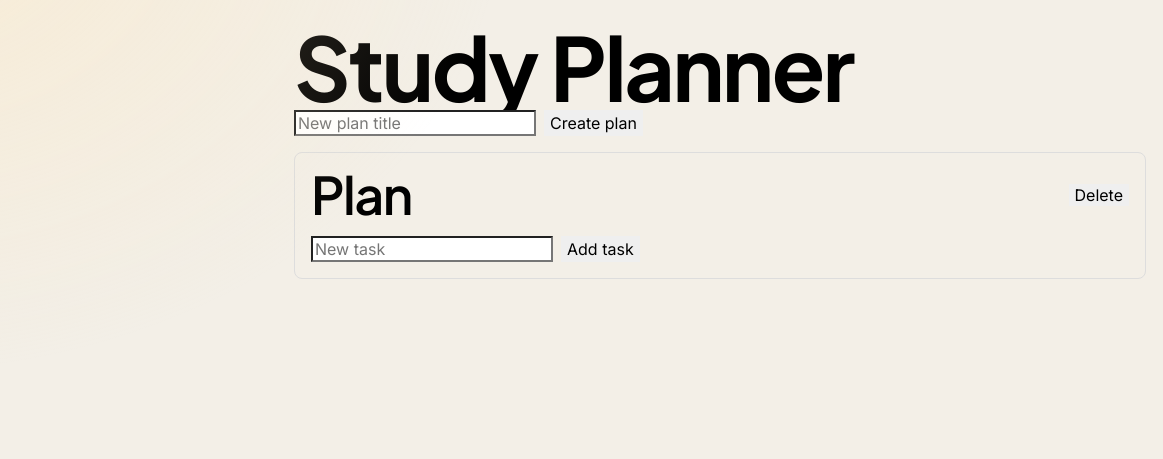
it: StudyPlannerPage › preserves mutation error when refresh succeeds
Check: the heading "Plan" is shown, box [311,169,412,220]
Type "Task A" into the field named "New task for Plan" at (432,249), box [311,236,553,262]
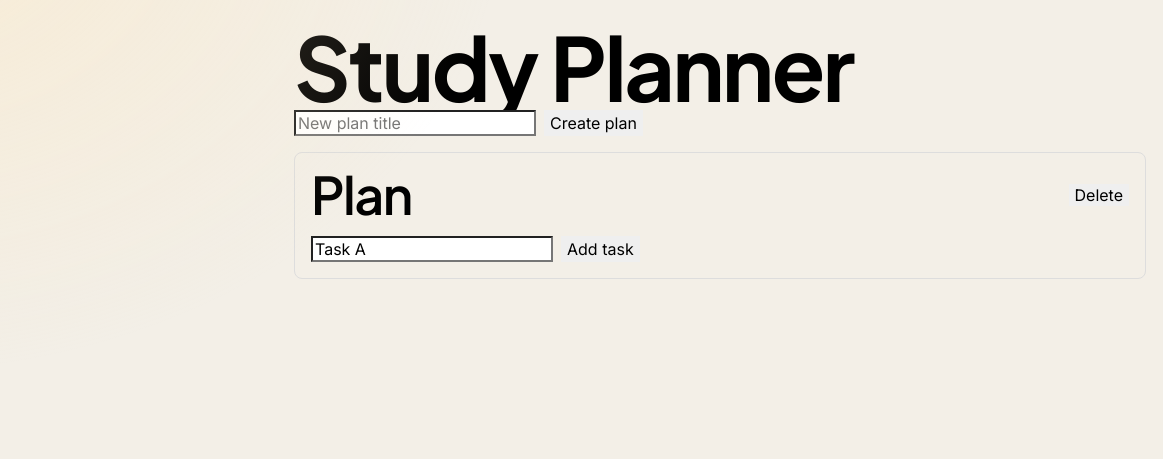
Click the button "Add task" at (600,249), box [561,236,640,262]
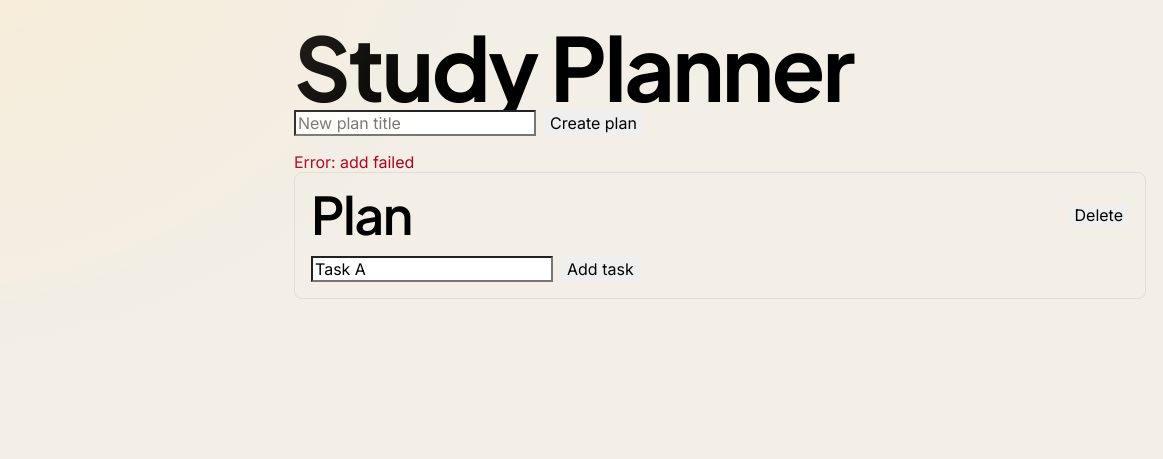
Check: the text "Error: add failed" is shown, box [294,152,414,172]
Type "New Plan" into the field labelled "New plan title" at (415,123), box [294,110,536,136]
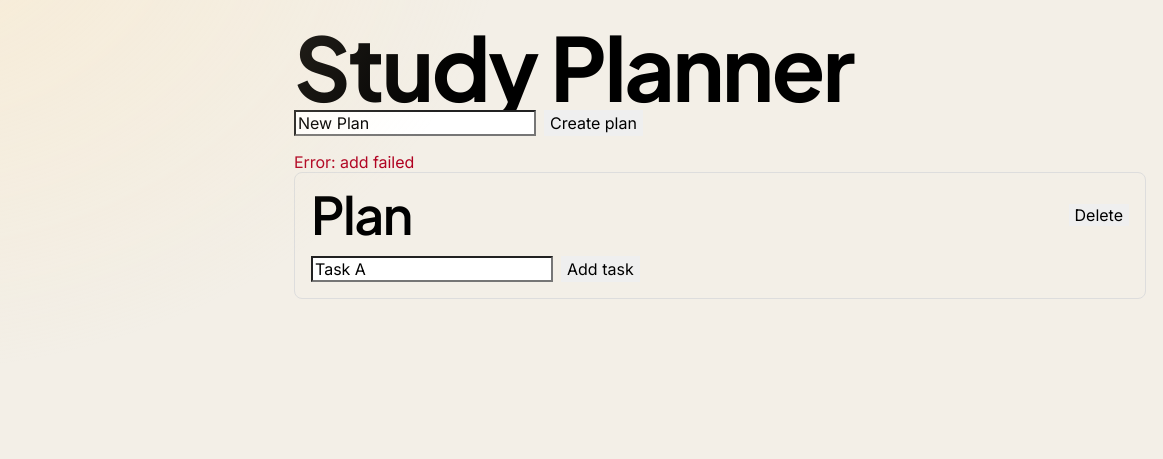
Click the button "Create plan" at (593,123), box [544,110,643,136]
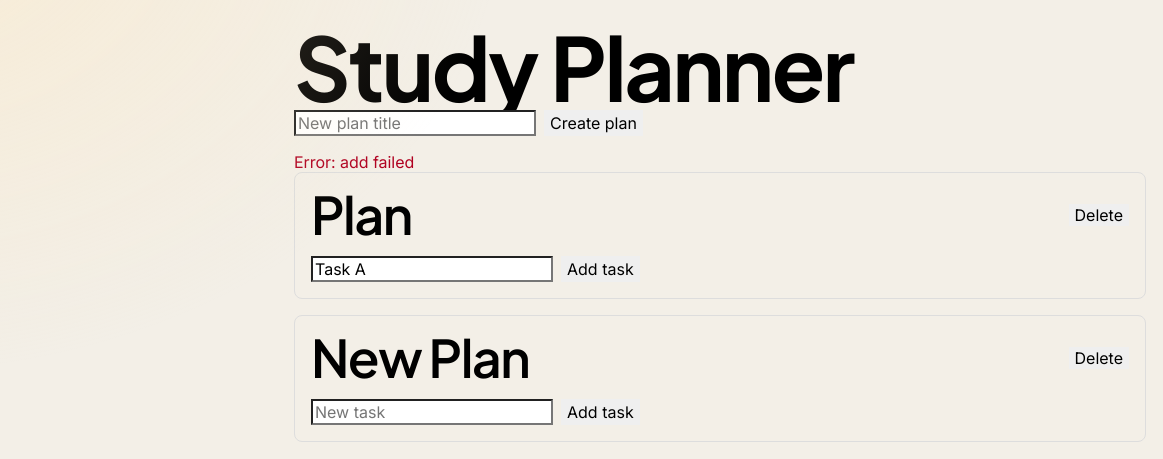
Check: the text "Error: add failed" is shown, box [294,152,414,172]
Check: the heading "New Plan" is shown, box [311,332,529,383]
